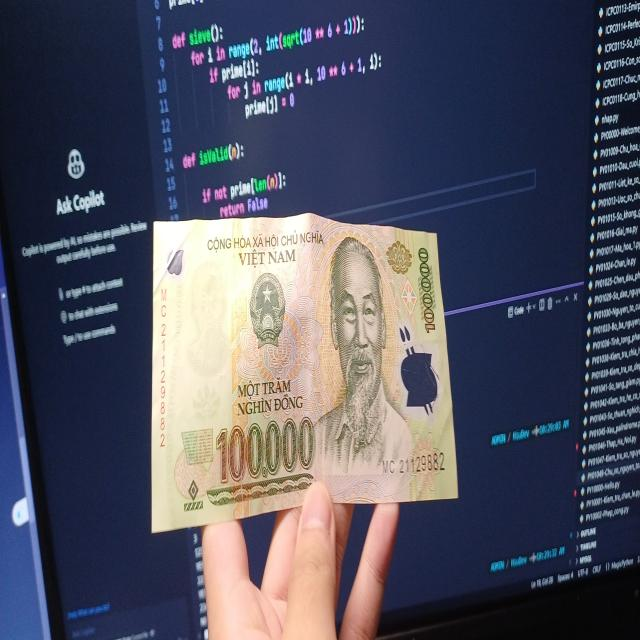100 000 VND: (147, 209, 458, 536)
